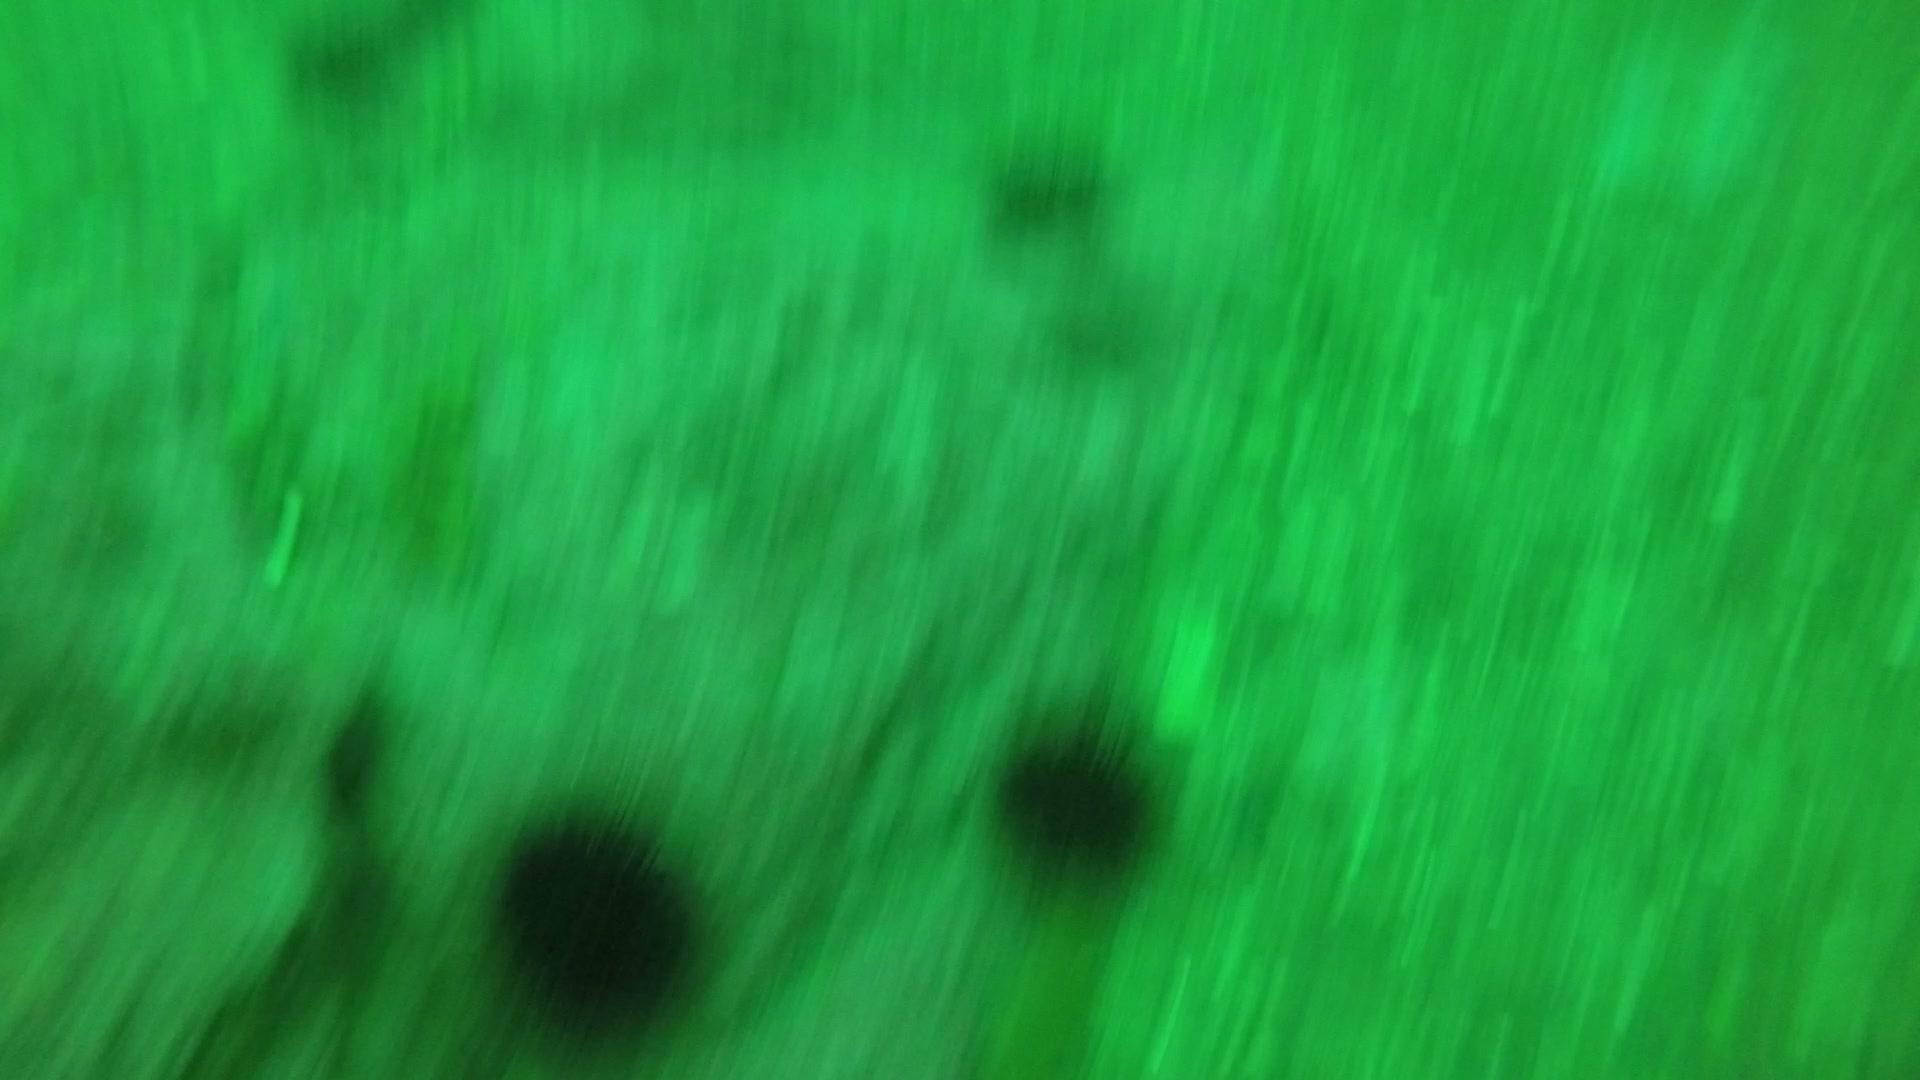echinus: (479, 799, 713, 1043), (984, 707, 1168, 885), (976, 131, 1114, 245)
starfish: (1575, 15, 1803, 222)
